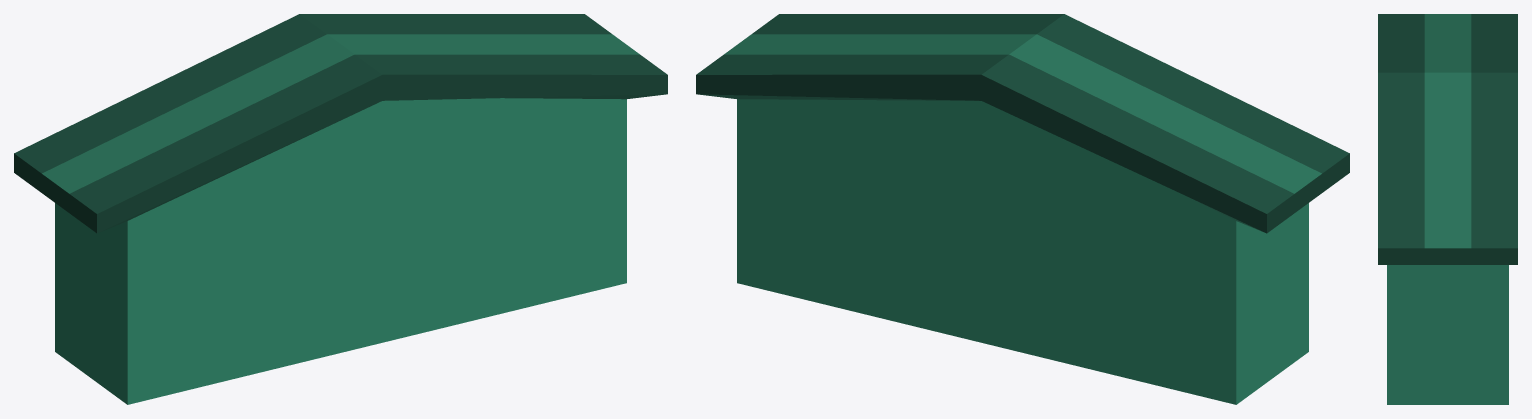
Rendered from Bld_10.fbx.
3 views of the same model, side by side, from view 1: azimuth 30°, elevation 25°; view 2: azimuth 150°, elevation 25°; view 3: azimuth 270°, elevation 25° (orthographic). The views are drawn at different scales.
Parts seen in each view (by area): view 1: Cube.064; view 2: Cube.064; view 3: Cube.064.
Boxes of the visible parts, x1=… form: Cube.064: x1=14, y1=14, x2=667, y2=404; Cube.064: x1=696, y1=14, x2=1349, y2=404; Cube.064: x1=1378, y1=14, x2=1517, y2=404.
Size of the model in its own units: 2086 by 954 by 525.
